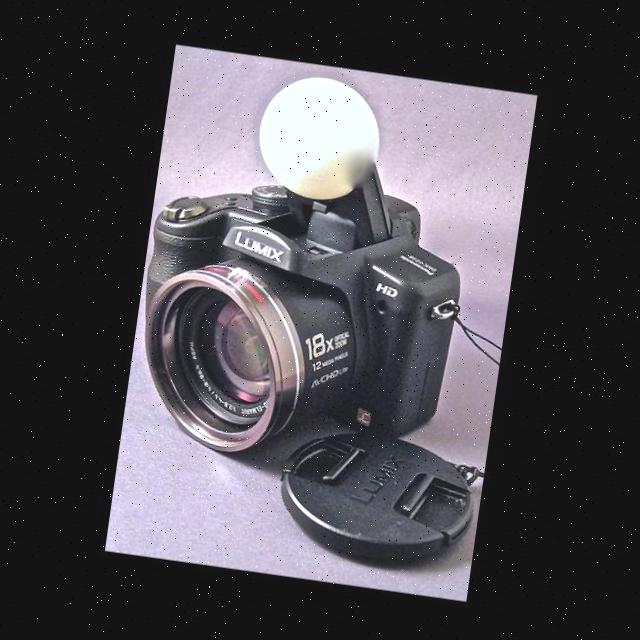ping-pong-ball: (248, 68, 389, 208)
